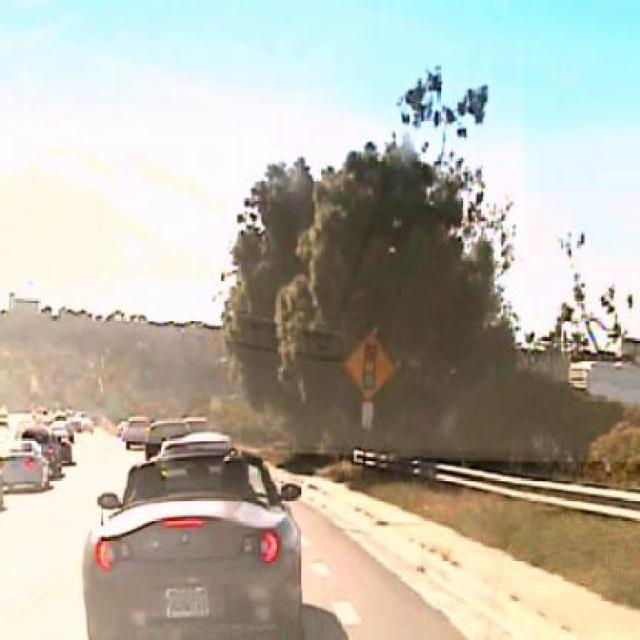signalAhead: (343, 331, 395, 402)
